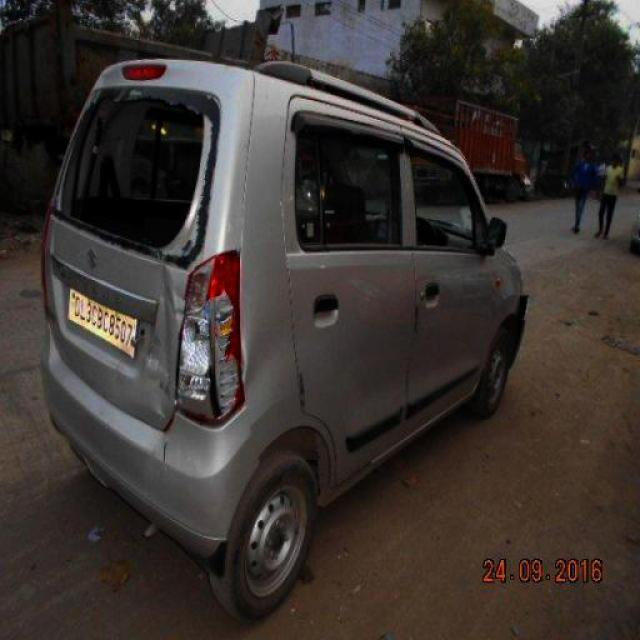Car-Damage: (51, 93, 209, 262), (175, 263, 250, 431), (145, 265, 185, 468)
